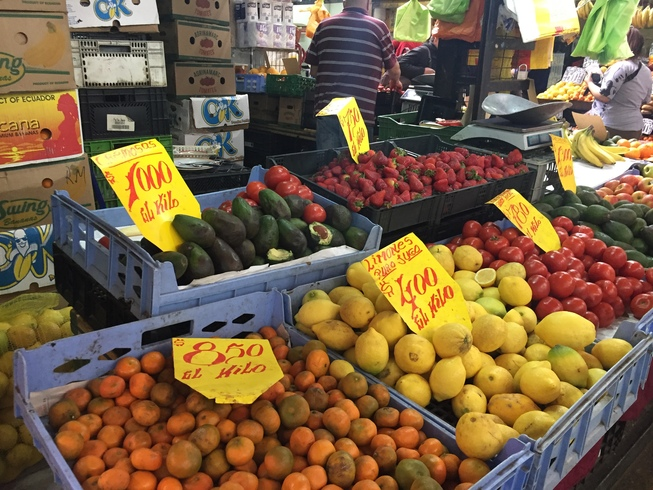precio: (94, 139, 203, 258), (359, 236, 467, 337), (166, 332, 292, 413), (484, 182, 559, 267), (320, 95, 374, 162), (548, 132, 581, 197)
